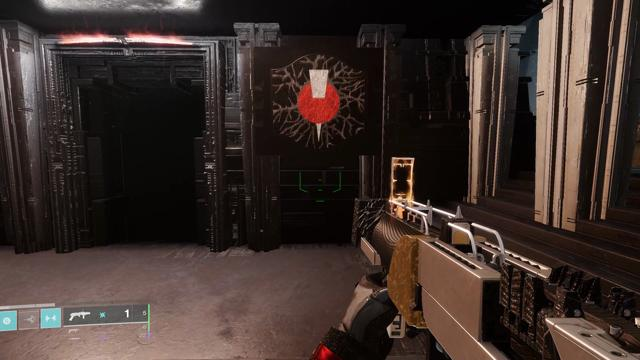kill: (271, 54, 365, 149)
